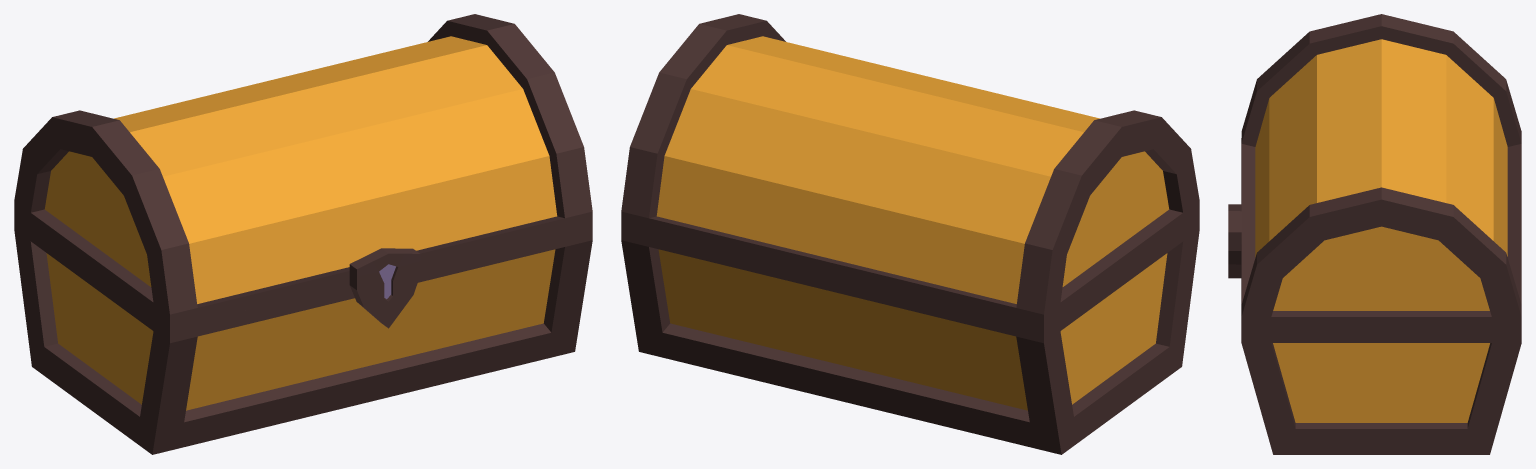
Rendered from Chest.fbx.
The picture shows the model from 3 angles, left to right: view 1: azimuth 30°, elevation 25°; view 2: azimuth 150°, elevation 25°; view 3: azimuth 270°, elevation 25°; orthographic projection. The views are drawn at different scales.
Parts seen in each view (by area): view 1: Top, Base; view 2: Top, Base; view 3: Top, Base.
Part boxes in pixels (x1=…): Top: x1=14, y1=14, x2=592, y2=328; Base: x1=14, y1=215, x2=592, y2=454; Top: x1=621, y1=14, x2=1199, y2=328; Base: x1=621, y1=215, x2=1199, y2=454; Top: x1=1228, y1=14, x2=1521, y2=329; Base: x1=1241, y1=330, x2=1521, y2=454.
Bounding box in the file's own units: 176 × 113 × 118.
